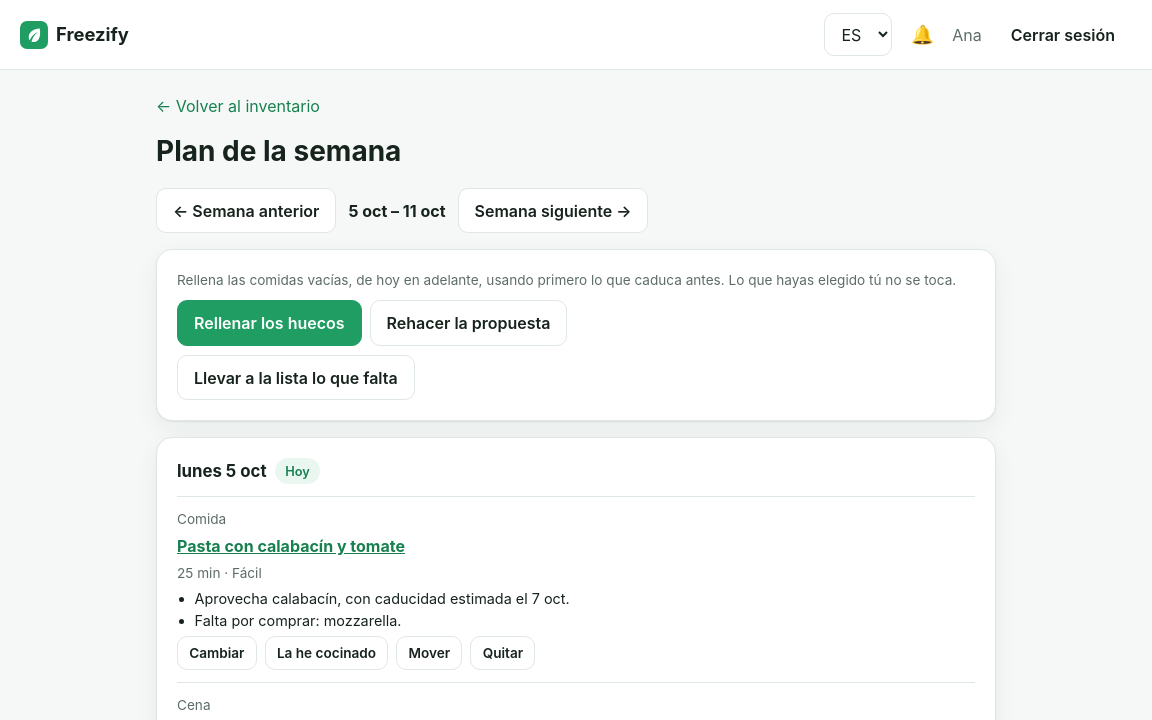
Test: meal plan › says the household cooked a meal of today, and lets it say so
expect the text "5 oct – 11 oct" is shown: met, box [348, 199, 446, 223]
Click the button "La he cocinado".
click(326, 653)  # box [265, 636, 388, 670]
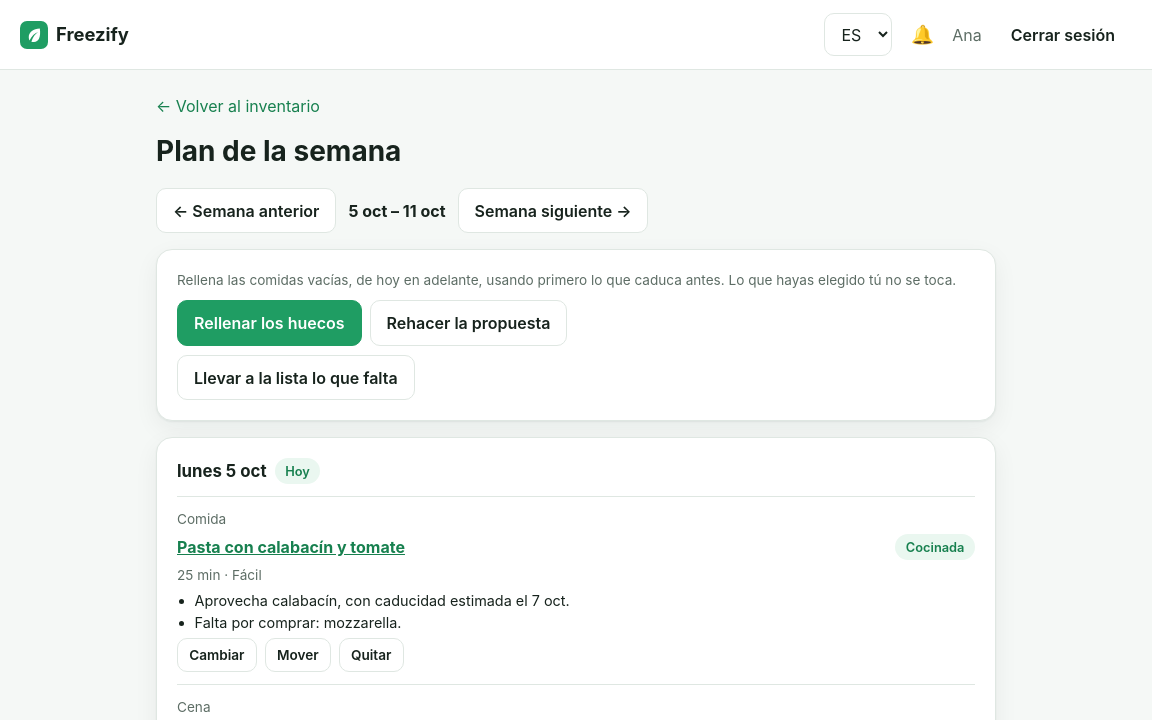
expect the text "Cocinada" is shown: met, box [895, 534, 975, 560]
expect the button "La he cocinado" is gone: met
